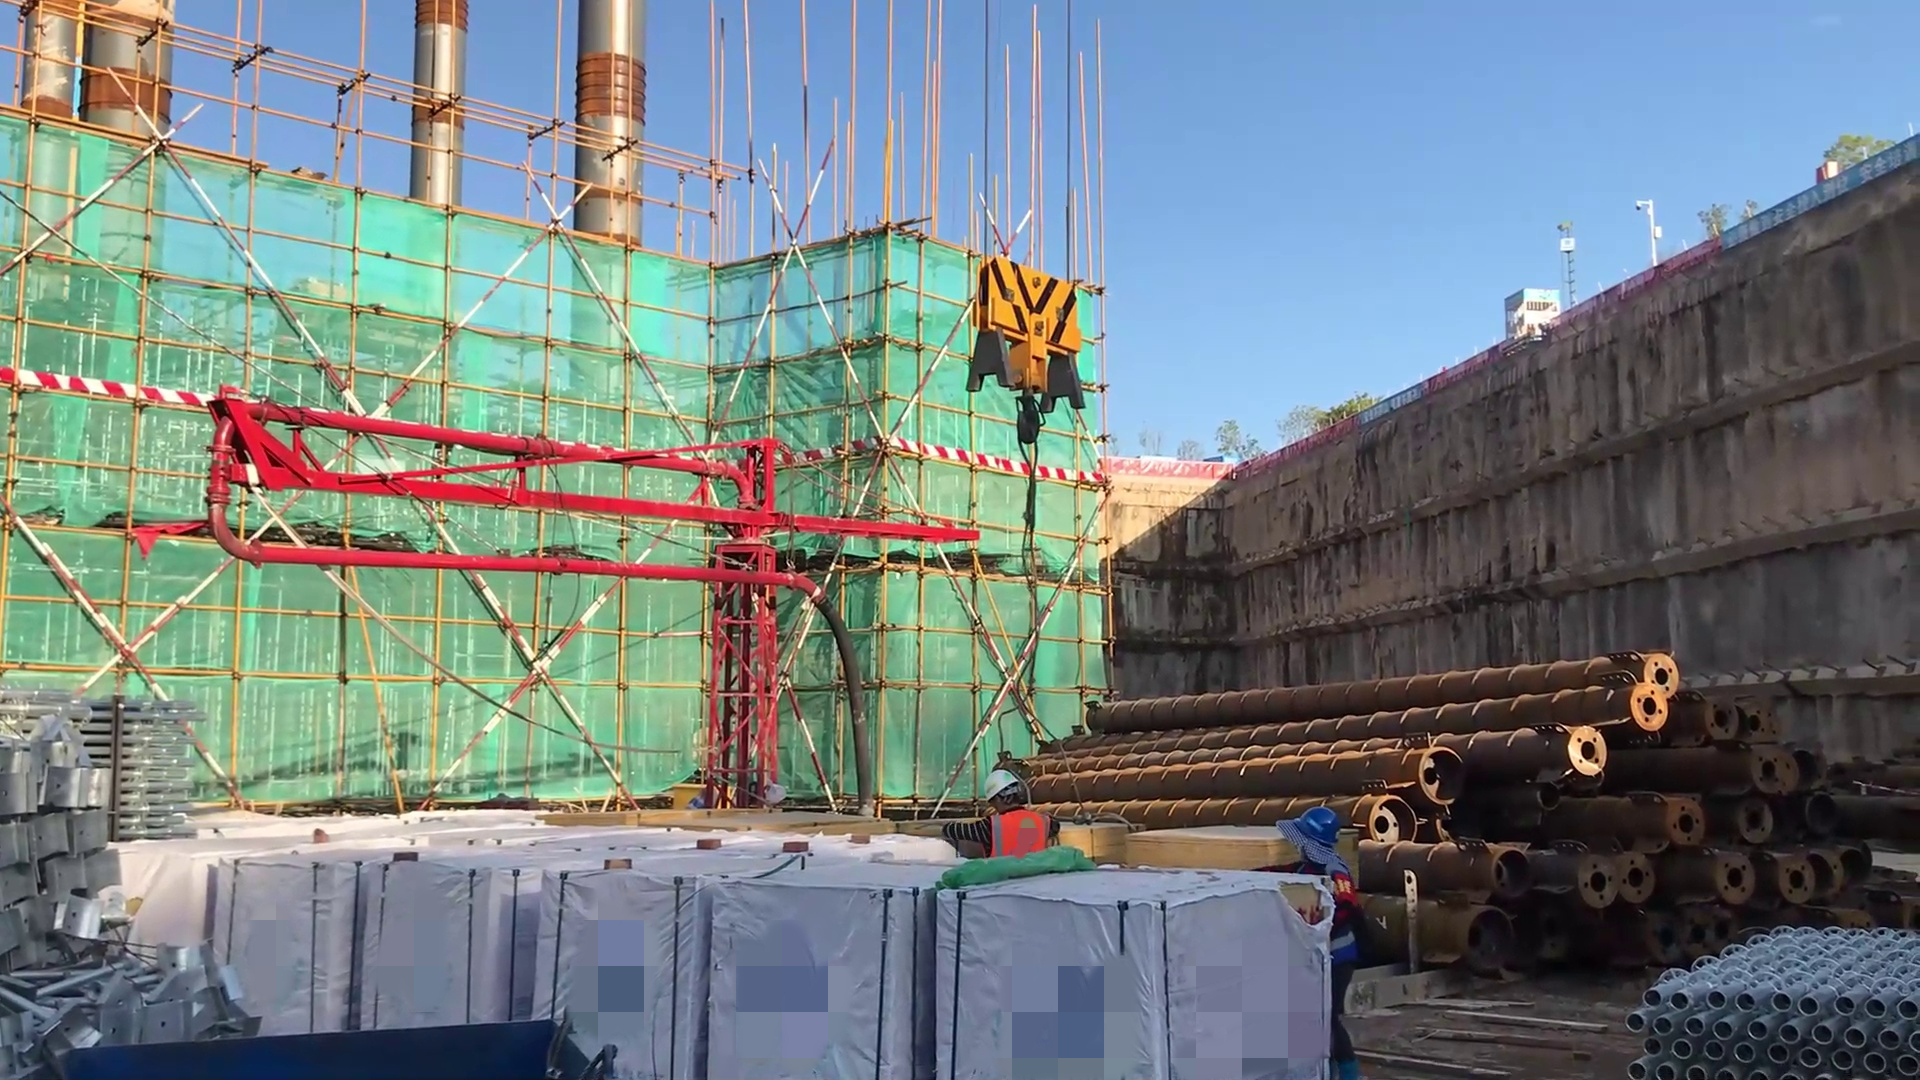board: (1112, 822, 1286, 881), (1045, 824, 1146, 863)
ebox: (663, 771, 744, 823)
helmet: (1283, 799, 1350, 863), (979, 770, 1036, 826)
hook: (969, 256, 1098, 507)
hopper: (1, 982, 609, 1080)
person: (1274, 800, 1392, 1074), (929, 775, 1064, 880)
scaffold: (1604, 901, 1920, 1078), (59, 684, 205, 835)
slogan: (1718, 131, 1920, 255), (1348, 384, 1426, 439)
vest: (1291, 854, 1360, 973), (970, 809, 1064, 871)
